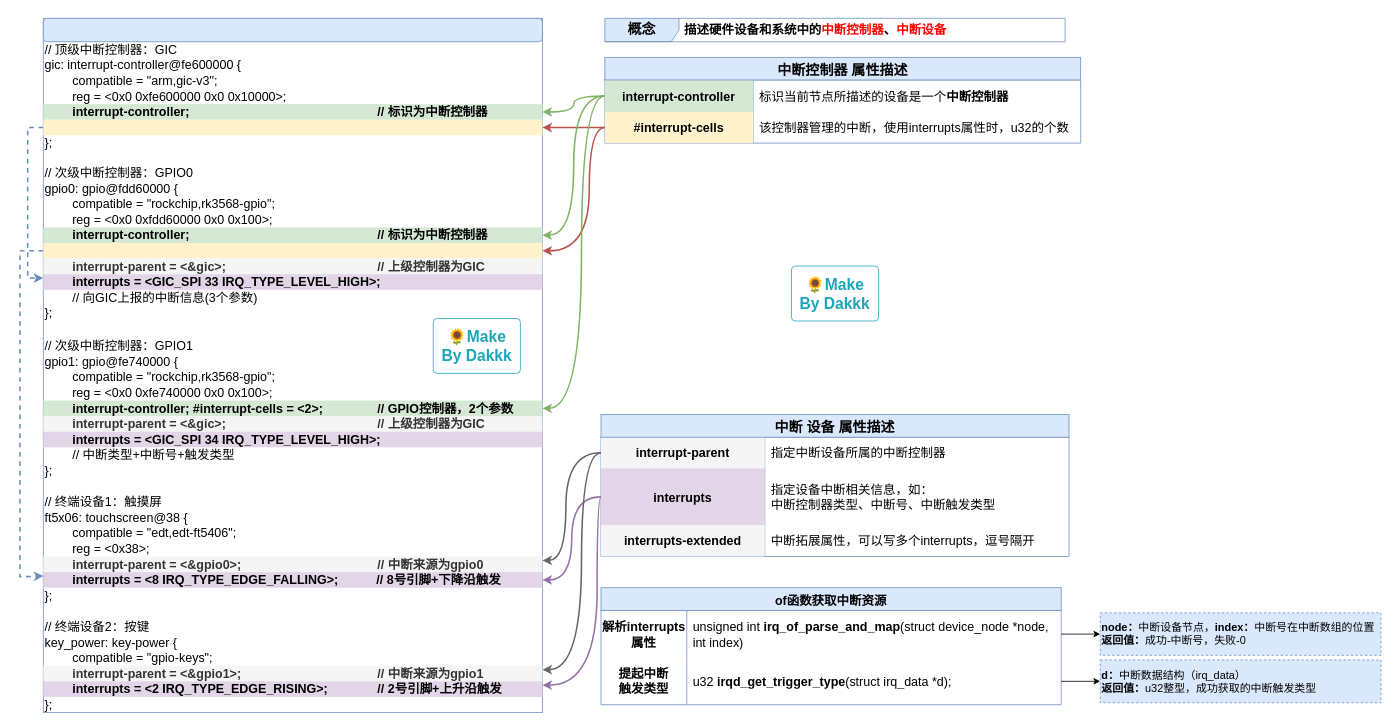
The diagram is 1395 pixels wide and 726 high, and some of its shapes have lost their labels. Each missing label, with the centre of its shape:
#interrupt-cells = <2>; // GPIO2个参数：中断号+触发类型: [292,250]
#interrupt-cells = <3>; // GIC需要3个参数: [292,127]
中断节点图示（掌握）: [292,30]
